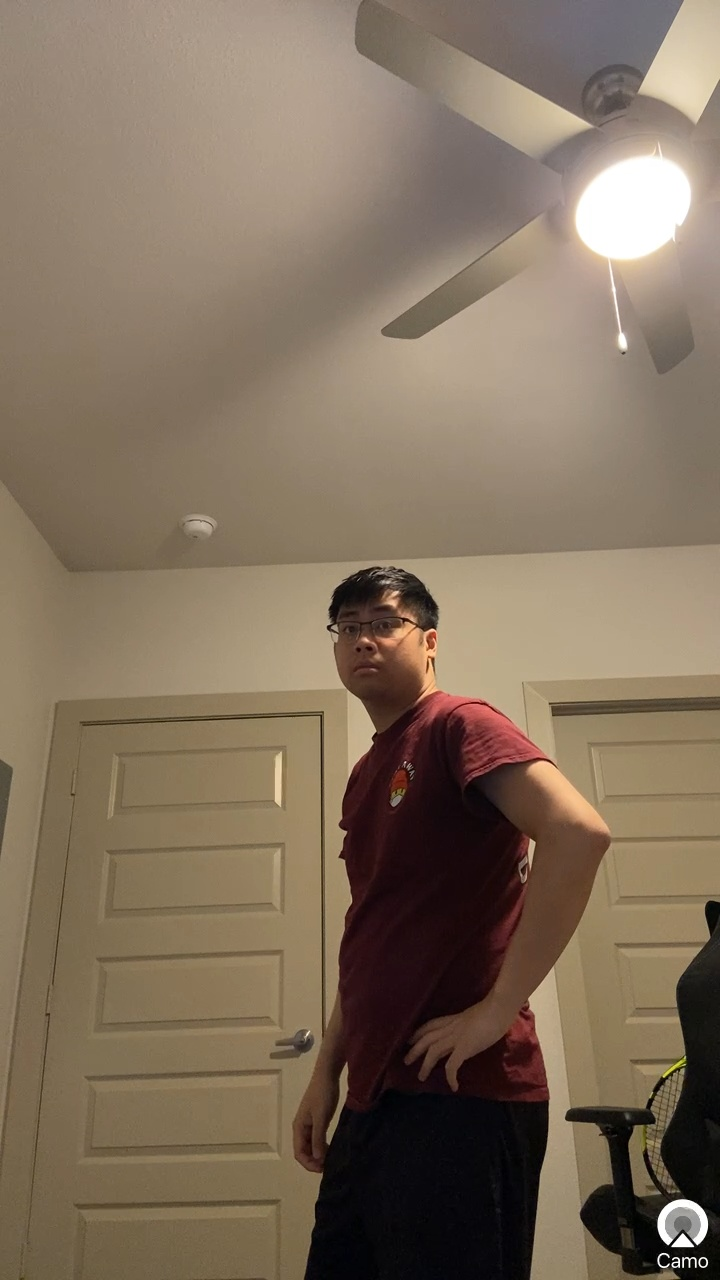Person: (249, 556, 641, 1280)
